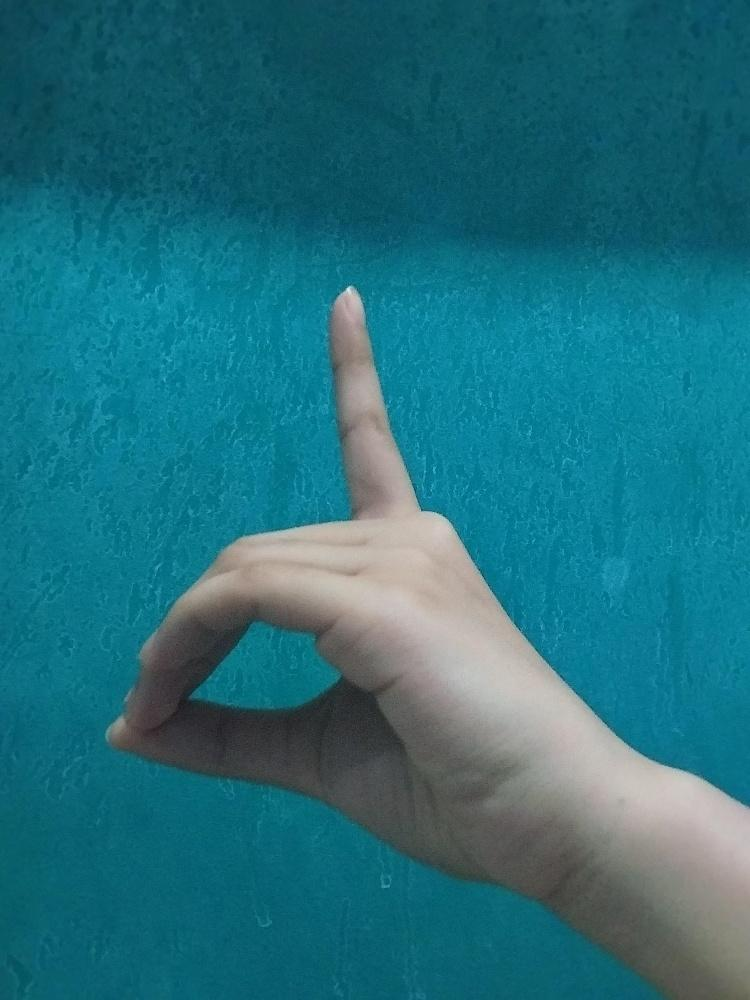d: (105, 272, 537, 889)
